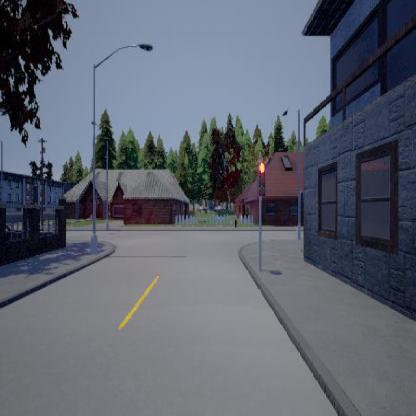traffic_light_red: (257, 154, 264, 202)
